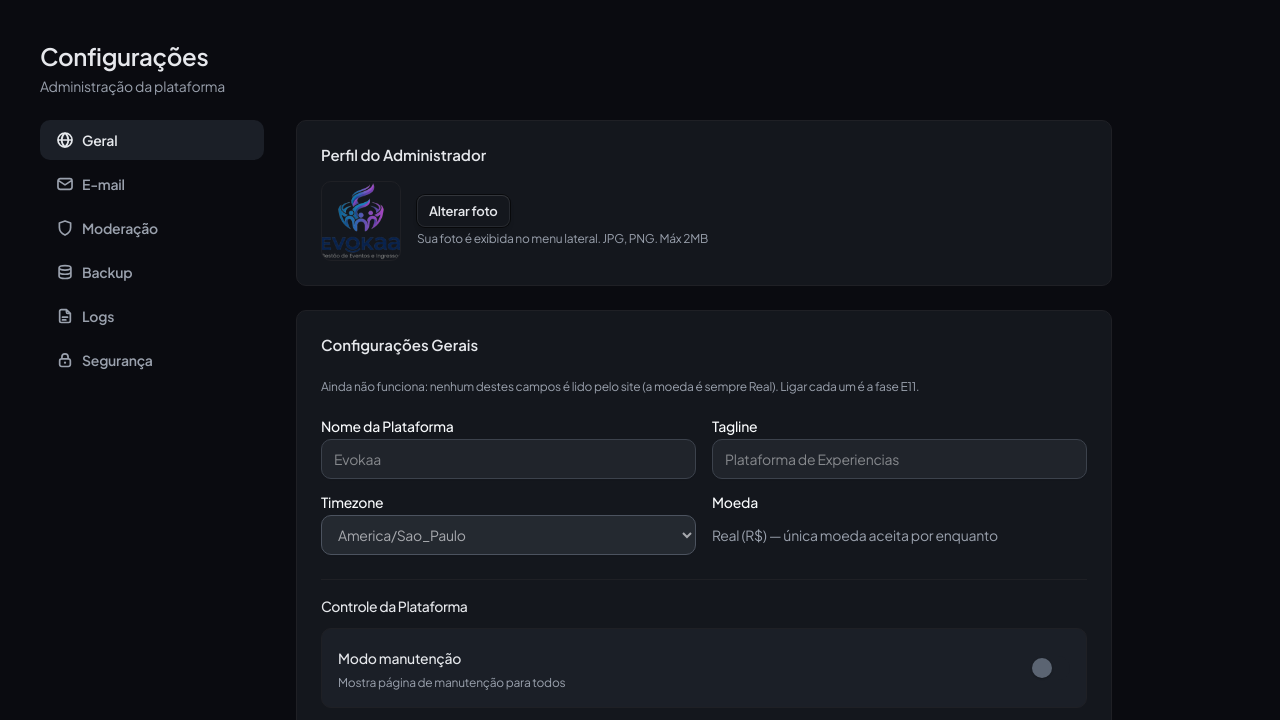
Scenario: Configurações: exportações por permissão › sem permissão de área: nenhuma e aviso
Click the button "Backup" at (152, 272), box 40,252 -> 264,292
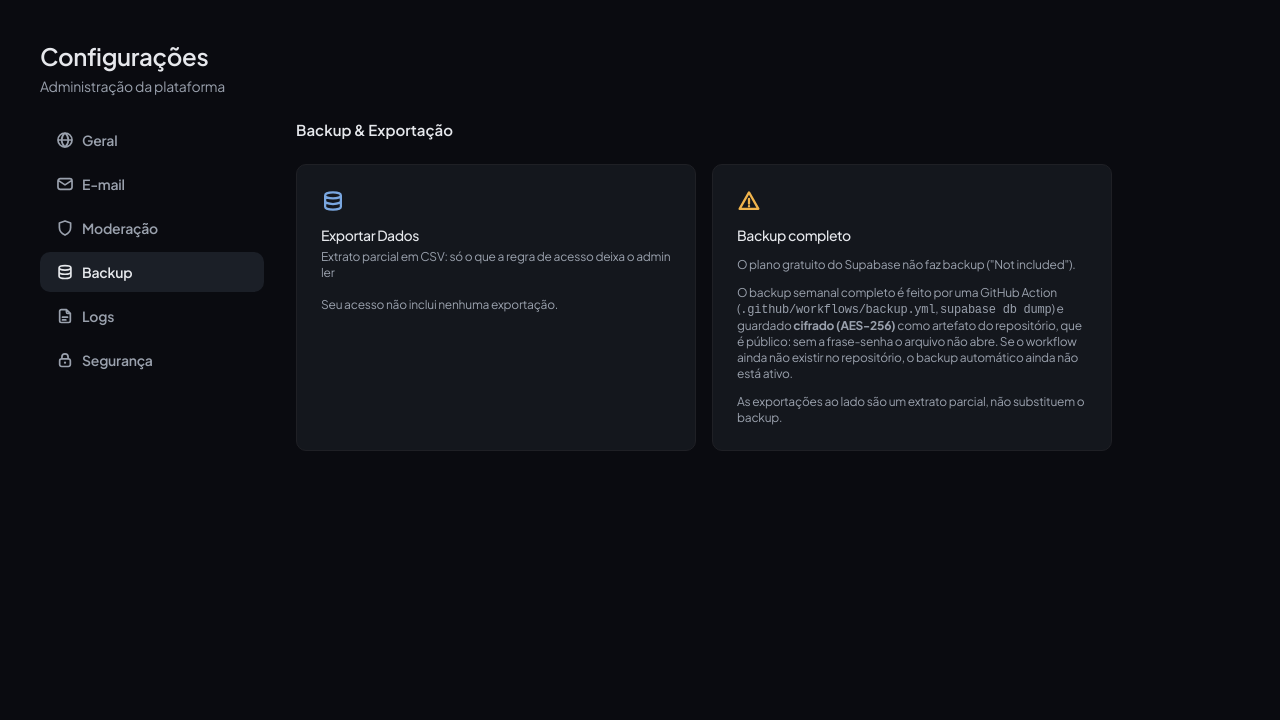
Expected: the text "Seu acesso não inclui nenhuma exportação." is shown, 321,297 -> 558,312
